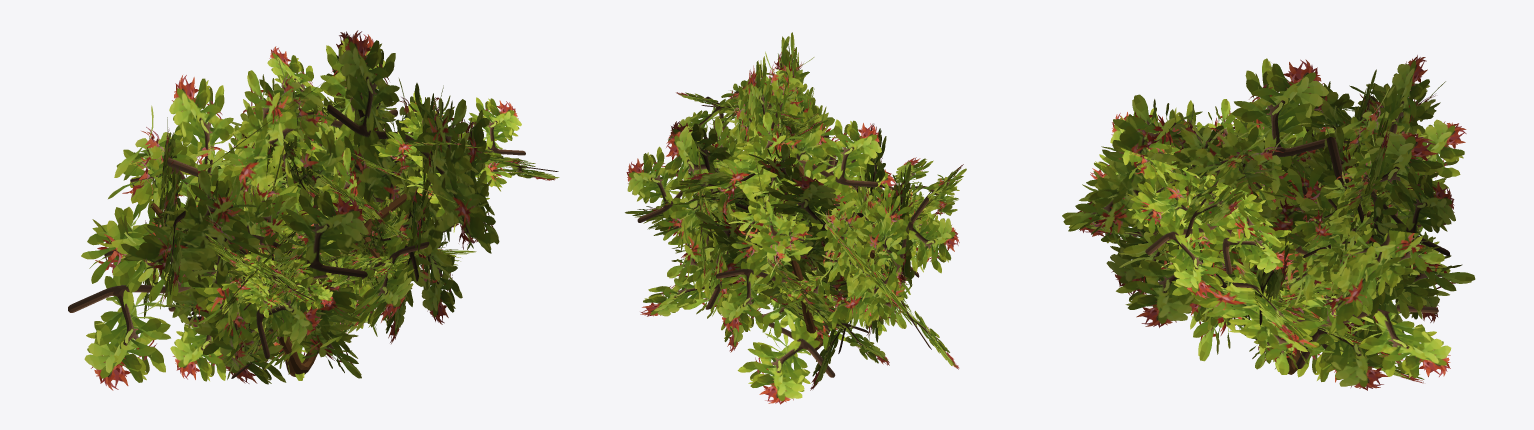
The model's file is FloweringBush.fbx.
3 renders of one model, left to right at view 1: azimuth 30°, elevation 25°; view 2: azimuth 150°, elevation 25°; view 3: azimuth 270°, elevation 25°, orthographic. The views are drawn at different scales.
Visible parts, largest first — view 1: FlowerBush; view 2: FlowerBush; view 3: FlowerBush.
Boxes of the visible parts, bbox=[...] form: FlowerBush: bbox=[68, 30, 559, 390]; FlowerBush: bbox=[625, 32, 966, 404]; FlowerBush: bbox=[1062, 55, 1475, 390].
Bounding box in the file's own units: 143 × 126 × 138.
